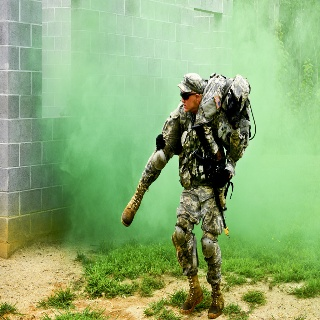rifle: (190, 123, 233, 240)
